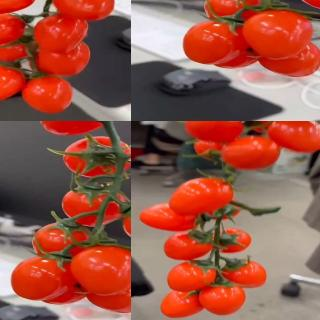tomato: (242, 10, 313, 60), (70, 245, 131, 295), (34, 222, 106, 261), (167, 176, 234, 216), (62, 187, 130, 226), (9, 256, 64, 301), (182, 20, 236, 65), (35, 12, 89, 54), (34, 39, 92, 77), (21, 73, 73, 114), (222, 135, 281, 170), (137, 202, 200, 234), (63, 141, 117, 178), (205, 0, 278, 25), (265, 121, 320, 153), (163, 231, 217, 262), (199, 282, 247, 316), (167, 261, 217, 293), (221, 260, 269, 290), (160, 288, 208, 318), (182, 121, 243, 143), (52, 0, 115, 20), (195, 135, 240, 162), (211, 226, 253, 253), (35, 121, 110, 136), (0, 64, 28, 104), (0, 12, 27, 46), (245, 121, 302, 134)
